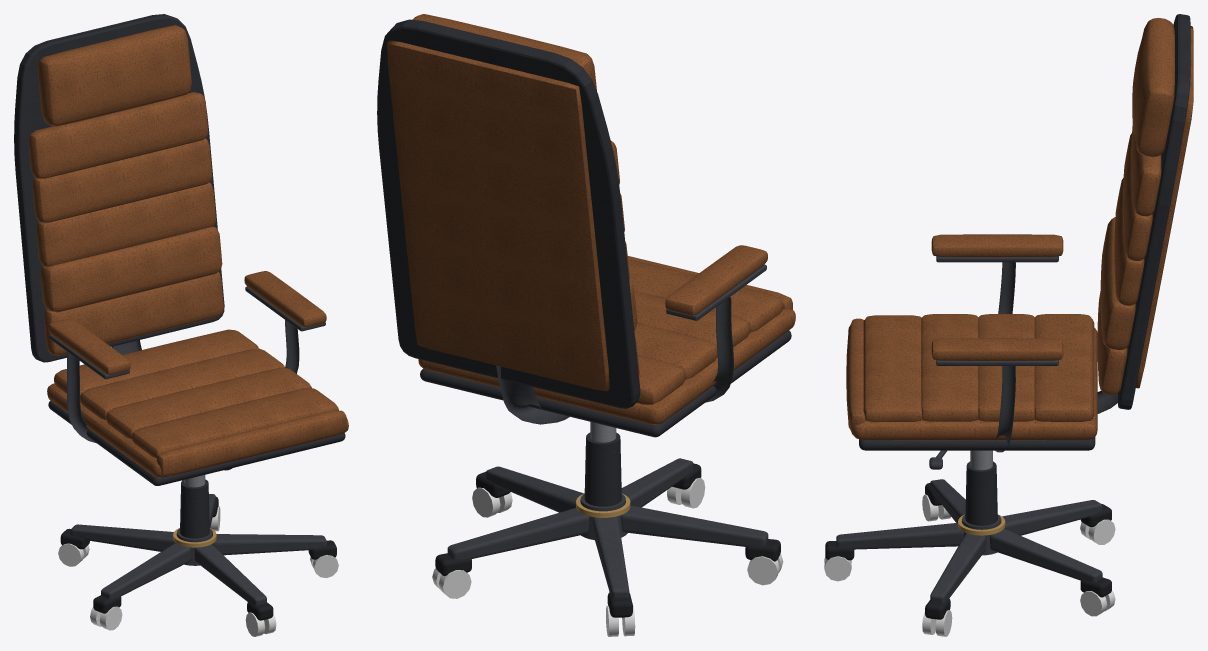
File: ceo_chair.glb
3 renders of one model, left to right at view 1: azimuth 30°, elevation 25°; view 2: azimuth 150°, elevation 25°; view 3: azimuth 270°, elevation 25°, orthographic. The views are drawn at different scales.
Visible parts, largest first — view 1: back_leather_cognac_7, back_graphite_0, back_leather_cognac_5, back_leather_cognac_2, back_leather_cognac_4, back_leather_cognac_3, base_alloy_dark_0, back_leather_cognac_1, seat_leather_cognac_5, seat_leather_cognac_4, seat_leather_cognac_6, seat_leather_cognac_3 (+10 smaller); view 2: back_leather_cognac_6, back_graphite_0, base_alloy_dark_0, seat_leather_cognac_1, seat_graphite_0, base_rubber_3, arm_r_leather_cognac_1, seat_leather_cognac_5, seat_leather_cognac_3, seat_leather_cognac_4, column_graphite_1, base_plastic_dark_2 (+4 smaller); view 3: base_alloy_dark_0, back_graphite_0, seat_leather_cognac_5, seat_leather_cognac_2, seat_leather_cognac_4, back_leather_cognac_7, seat_leather_cognac_1, seat_leather_cognac_3, arm_r_leather_cognac_1, arm_l_leather_cognac_1, base_rubber_3, seat_graphite_0 (+11 smaller).
Part boxes in pixels (box(x1,y1,x2,y2)): back_leather_cognac_7: box(37, 25, 191, 126); back_graphite_0: box(14, 14, 224, 362); back_leather_cognac_5: box(28, 92, 208, 178); back_leather_cognac_2: box(40, 226, 222, 312); back_leather_cognac_4: box(32, 138, 212, 222); back_leather_cognac_3: box(36, 182, 216, 266); base_alloy_dark_0: box(70, 494, 326, 605); back_leather_cognac_1: box(44, 271, 223, 355); seat_leather_cognac_5: box(131, 388, 338, 458); seat_leather_cognac_4: box(106, 367, 311, 438); seat_leather_cognac_6: box(156, 410, 346, 476); seat_leather_cognac_3: box(80, 348, 285, 419); back_leather_cognac_6: box(387, 40, 609, 391); back_graphite_0: box(377, 19, 640, 408); base_alloy_dark_0: box(447, 458, 768, 597); seat_leather_cognac_1: box(418, 309, 795, 424); seat_graphite_0: box(420, 330, 791, 437); base_rubber_3: box(432, 478, 783, 636); arm_r_leather_cognac_1: box(665, 245, 767, 315); seat_leather_cognac_5: box(628, 259, 783, 332); seat_leather_cognac_3: box(634, 323, 717, 379); seat_leather_cognac_4: box(634, 290, 750, 347); column_graphite_1: box(584, 432, 621, 506); base_plastic_dark_2: box(435, 463, 780, 617); base_alloy_dark_0: box(836, 479, 1102, 602); back_graphite_0: box(1118, 14, 1190, 409); seat_leather_cognac_5: box(863, 315, 922, 421); seat_leather_cognac_2: box(1034, 314, 1094, 421); seat_leather_cognac_4: box(921, 314, 978, 421); back_leather_cognac_7: box(1132, 18, 1174, 157); seat_leather_cognac_1: box(853, 327, 1097, 440); seat_leather_cognac_3: box(978, 314, 1034, 421); arm_r_leather_cognac_1: box(931, 234, 1063, 257); arm_l_leather_cognac_1: box(931, 338, 1063, 360); base_rubber_3: box(824, 494, 1115, 636); seat_graphite_0: box(859, 437, 1095, 450).
Size of what is drawn, in the model's own units: 0.6736 by 1.29 by 0.8124.
7 materials, 7 textured.
